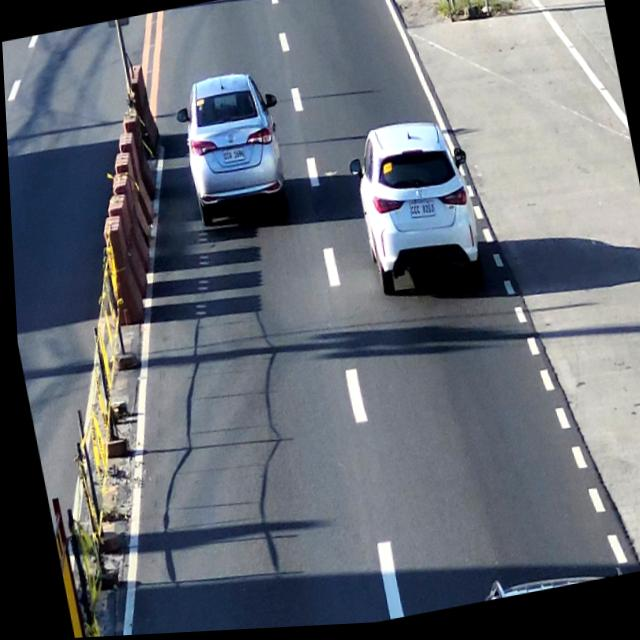Car: (343, 116, 483, 307), (170, 69, 290, 240), (471, 564, 610, 607)
License-Plate: (405, 204, 435, 226), (217, 148, 247, 166)
